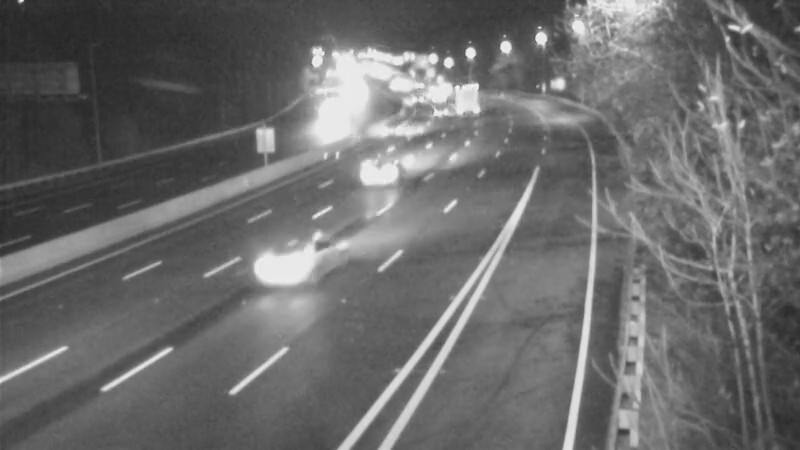vehicle: (339, 133, 419, 213), (235, 221, 315, 301), (431, 71, 481, 121), (416, 87, 466, 137), (370, 106, 420, 156), (306, 95, 356, 145)
